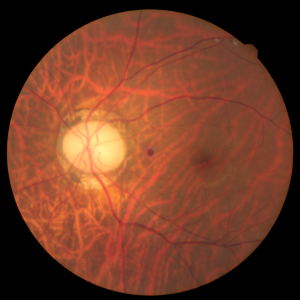retina_disease: (43, 98, 237, 214)
